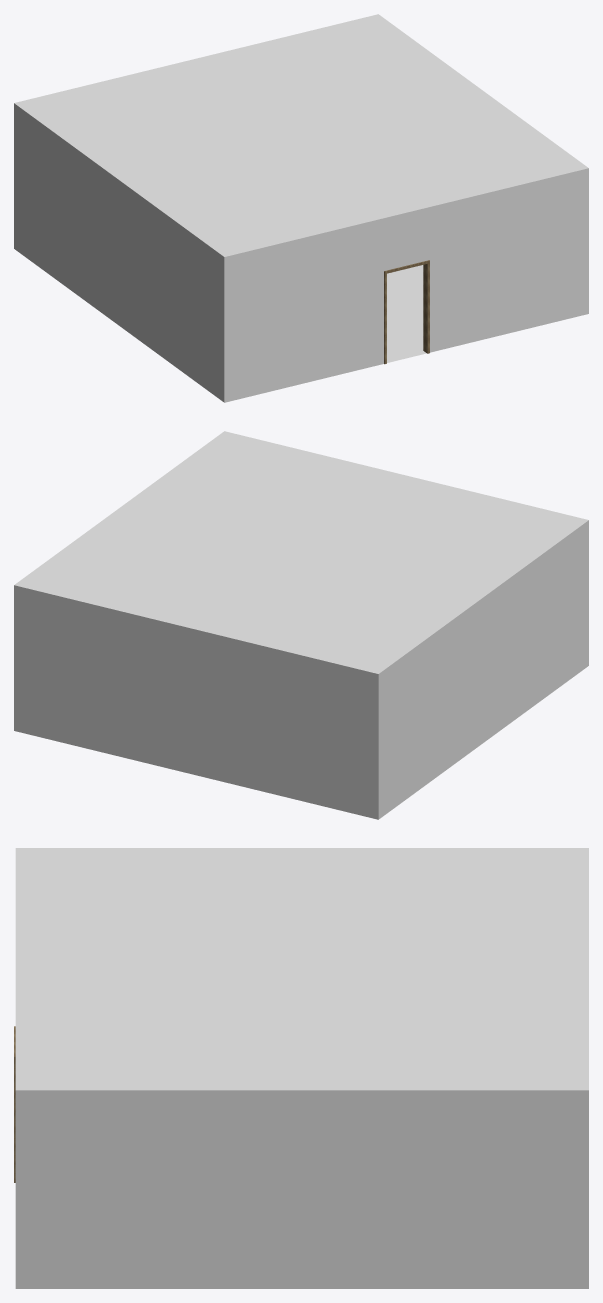
The model's file is Room.fbx.
The picture shows the model from 3 angles, top to bottom: view 1: azimuth 30°, elevation 25°; view 2: azimuth 150°, elevation 25°; view 3: azimuth 270°, elevation 25°; orthographic projection. The views are drawn at different scales.
Visible parts, largest first — view 1: Room; view 2: Room; view 3: Room.
Part boxes in pixels (x1=…): Room: x1=14, y1=14, x2=588, y2=402; Room: x1=14, y1=431, x2=588, y2=819; Room: x1=14, y1=848, x2=588, y2=1288.
Size of the model in its own units: 7.2 by 2.75 by 7.22.
